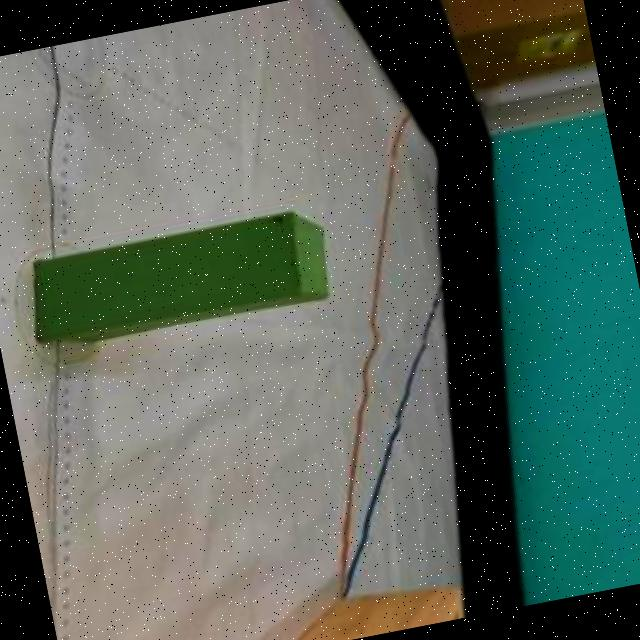greenbox: (18, 203, 340, 354)
